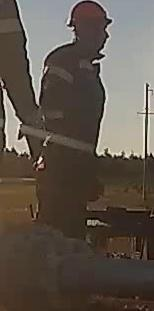gloves: (15, 109, 48, 163)
helmet: (65, 0, 113, 29)
vest: (43, 53, 104, 184)
